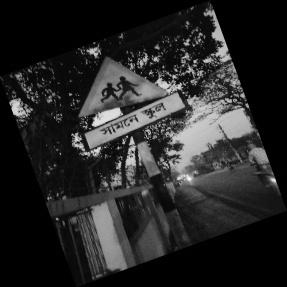School-in-front: (77, 55, 187, 152)
